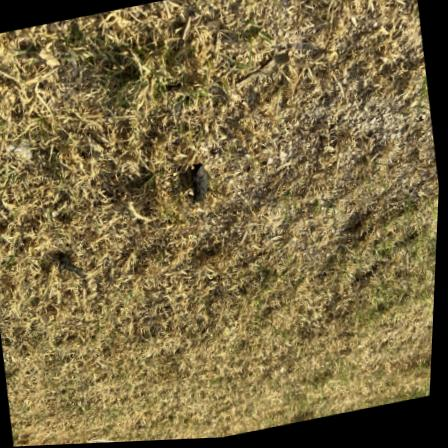dog-poop: (183, 157, 222, 214), (52, 243, 92, 283)
